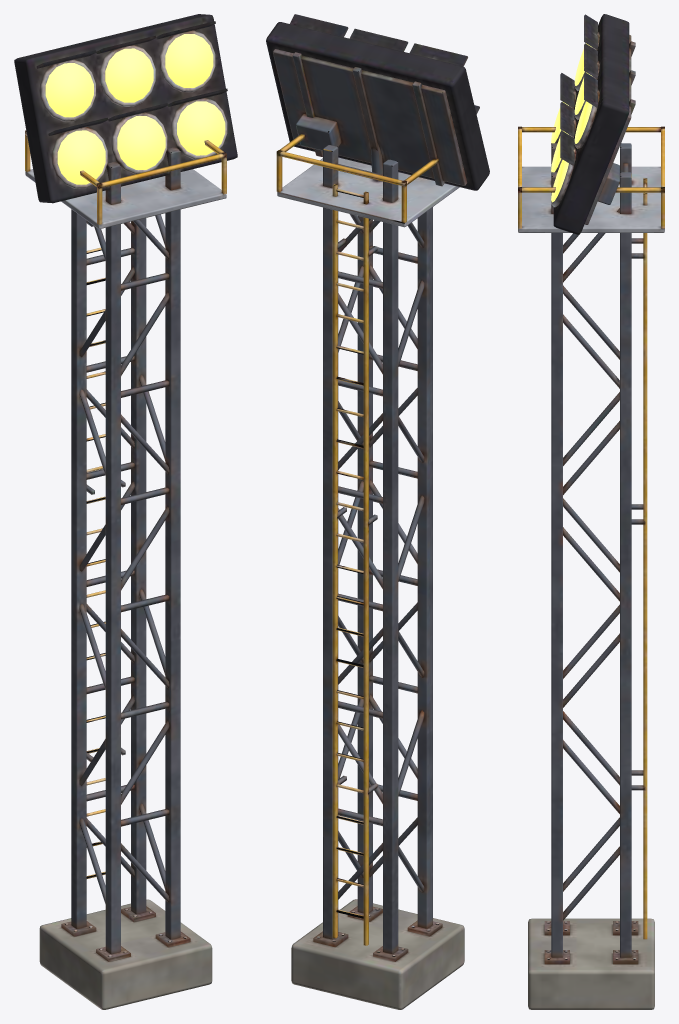
File: arena_tower.glb
3 views of the same model, side by side, from view 1: azimuth 30°, elevation 25°; view 2: azimuth 150°, elevation 25°; view 3: azimuth 270°, elevation 25° (orthographic).
Parts seen in each view (by area): view 1: tower, glow_lamp3, glow_lamp1, glow_lamp2, glow_lamp5, glow_lamp4, glow_lamp0; view 2: tower; view 3: tower.
Part boxes in pixels (bbox=[...]): tower: bbox=[14, 14, 237, 1009]; glow_lamp3: bbox=[105, 48, 153, 102]; glow_lamp1: bbox=[45, 63, 93, 117]; glow_lamp2: bbox=[117, 116, 165, 169]; glow_lamp5: bbox=[165, 34, 213, 87]; glow_lamp4: bbox=[177, 101, 225, 155]; glow_lamp0: bbox=[57, 130, 105, 184]; tower: bbox=[266, 14, 489, 1009]; tower: bbox=[518, 14, 664, 1009].
Size of the model in its own units: 2.2 by 10.47 by 1.5.
Materials: 2 (1 with a texture image).
